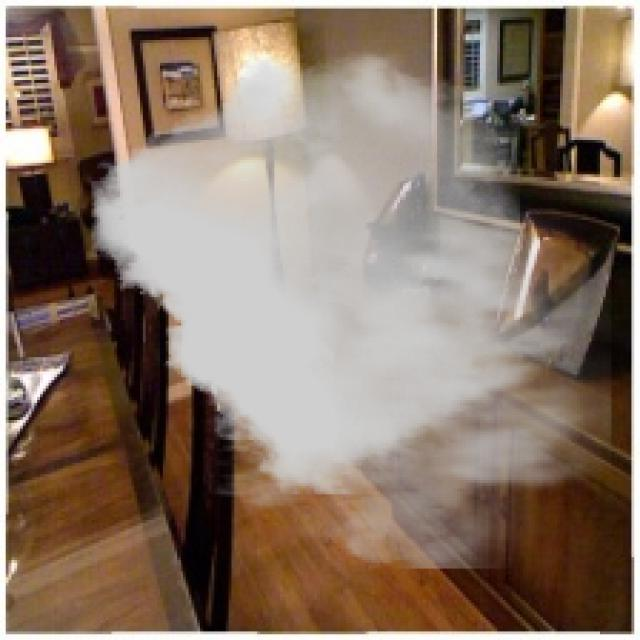smoke: (91, 51, 612, 568)
